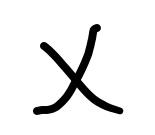mult: (33, 23, 123, 115)
